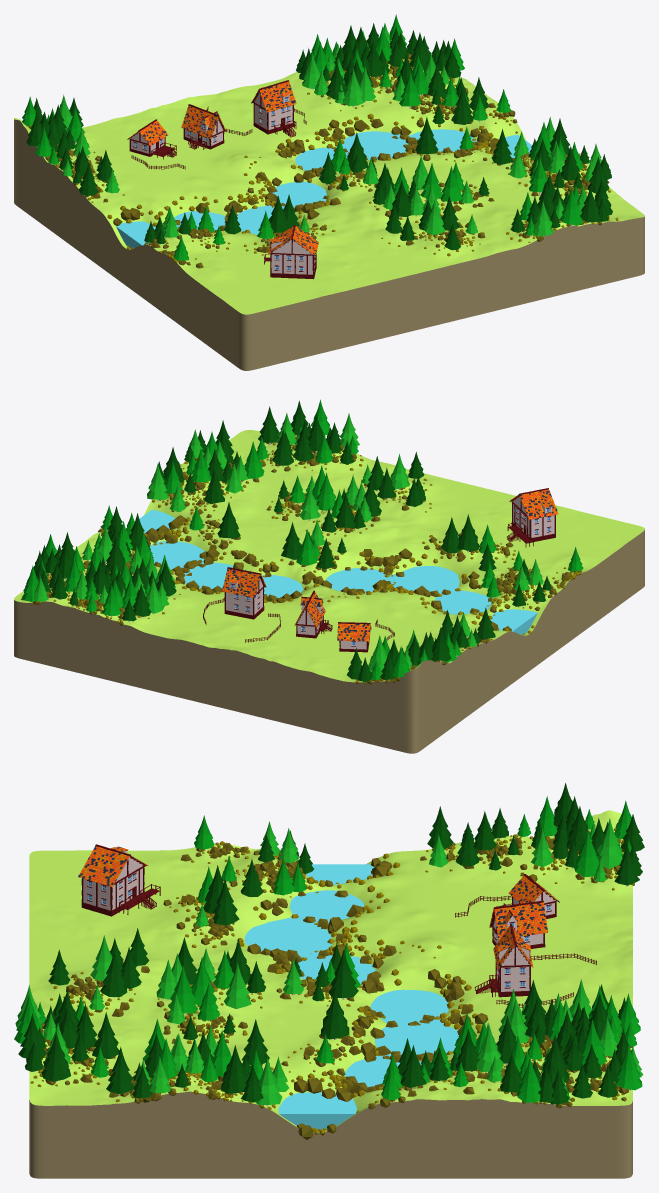
File: heaven-transformed.glb
3 views of the same model, one above another, from view 1: azimuth 30°, elevation 25°; view 2: azimuth 150°, elevation 25°; view 3: azimuth 270°, elevation 25° (orthographic). The views are drawn at different scales.
Visible parts, largest first — view 1: geo1_Wood_0, Trees_Green2_0, Terrain_Water1_0; view 2: geo1_Wood_0, Trees_Green2_0, Terrain_Water1_0; view 3: geo1_Wood_0, Trees_Green2_0, Terrain_Water1_0.
Part boxes in pixels (box(x1,y1,x2,y2)): geo1_Wood_0: box(14, 45, 644, 370); Trees_Green2_0: box(22, 14, 612, 260); Terrain_Water1_0: box(116, 129, 531, 248); geo1_Wood_0: box(14, 430, 644, 753); Trees_Green2_0: box(22, 399, 583, 681); Terrain_Water1_0: box(139, 509, 537, 635); geo1_Wood_0: box(29, 810, 636, 1178); Trees_Green2_0: box(14, 783, 644, 1105); Terrain_Water1_0: box(244, 864, 458, 1129).
Bounding box in the file's own units: 18.76 × 4.65 × 18.79.
3 materials, 3 textured.
